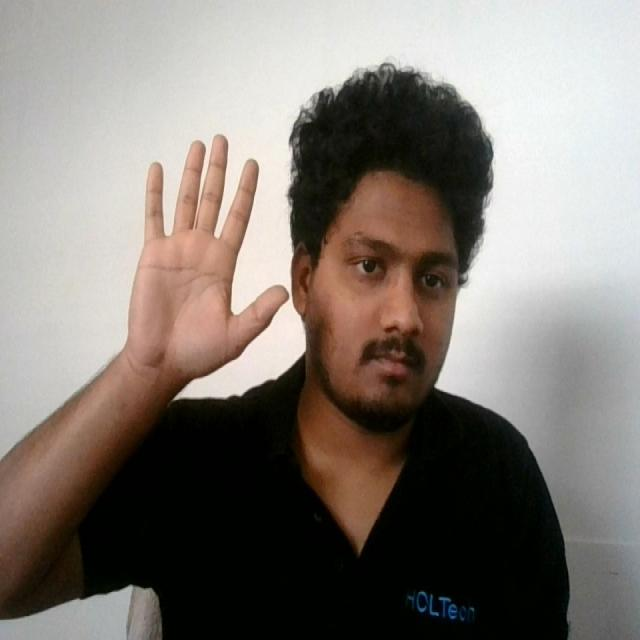Hello: (118, 127, 290, 393)
